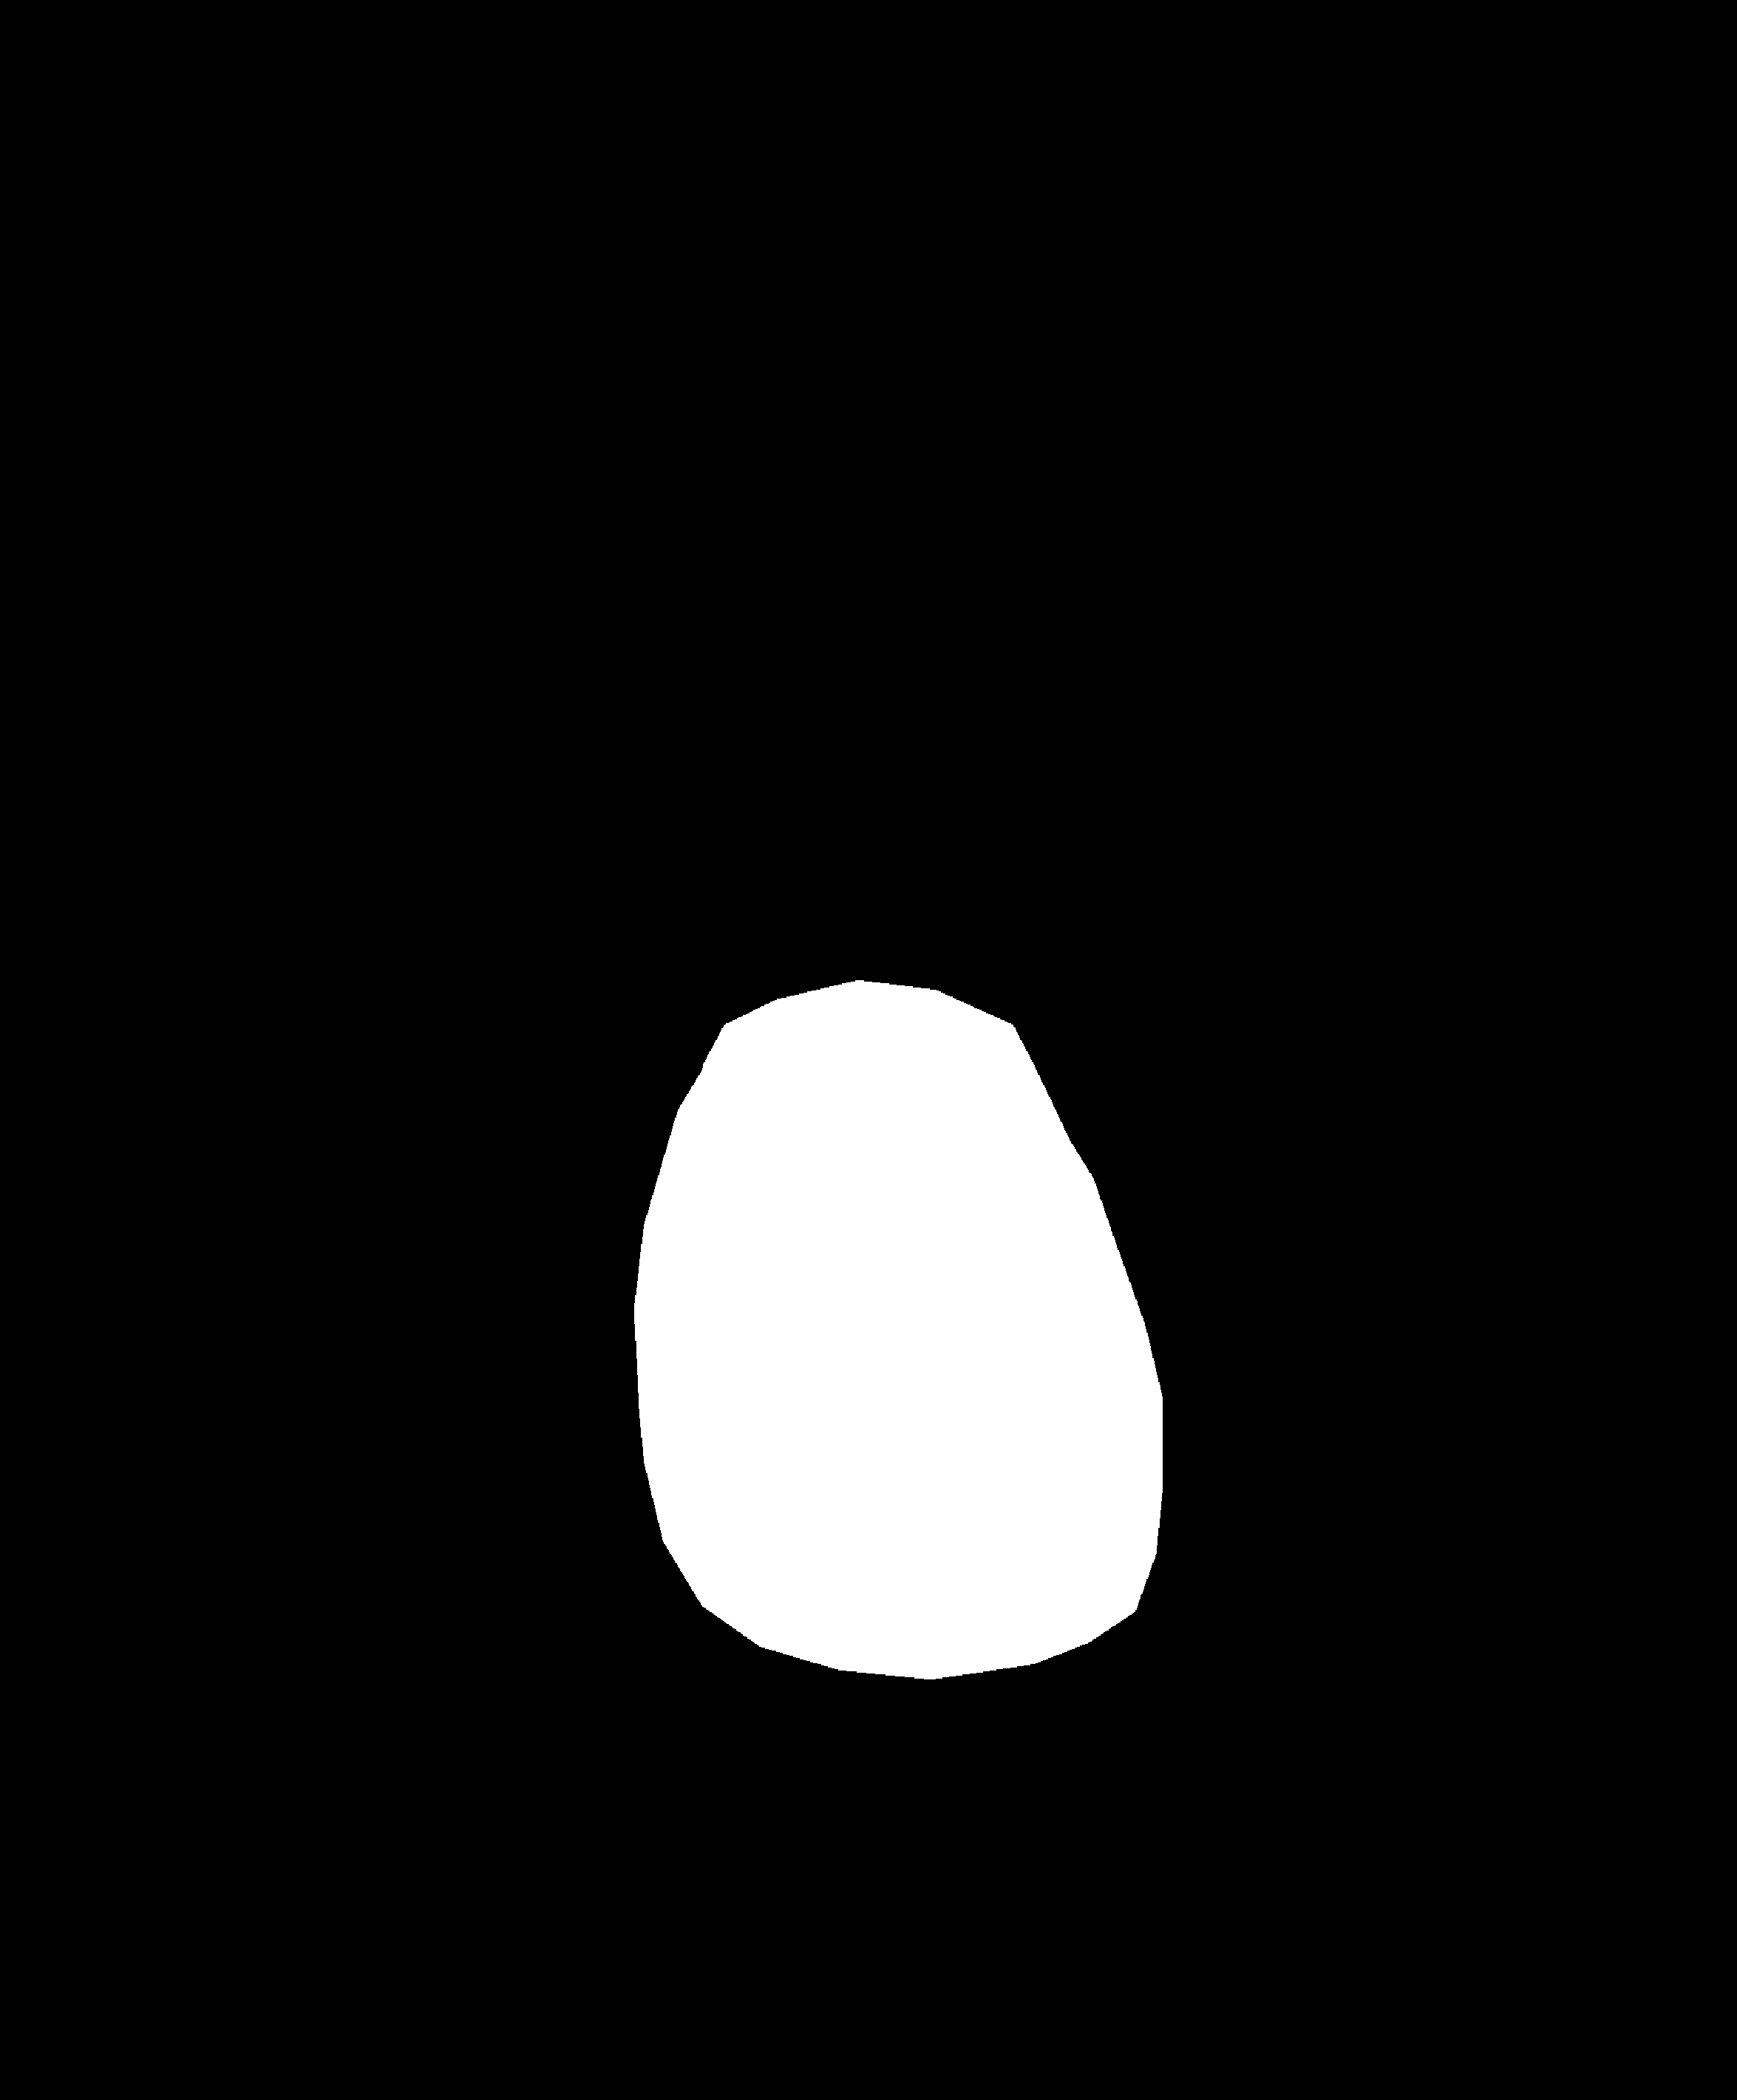heart: (635, 1059, 1160, 1664)
left_lung: (188, 216, 757, 1988)
right_lung: (909, 225, 1547, 1985)
